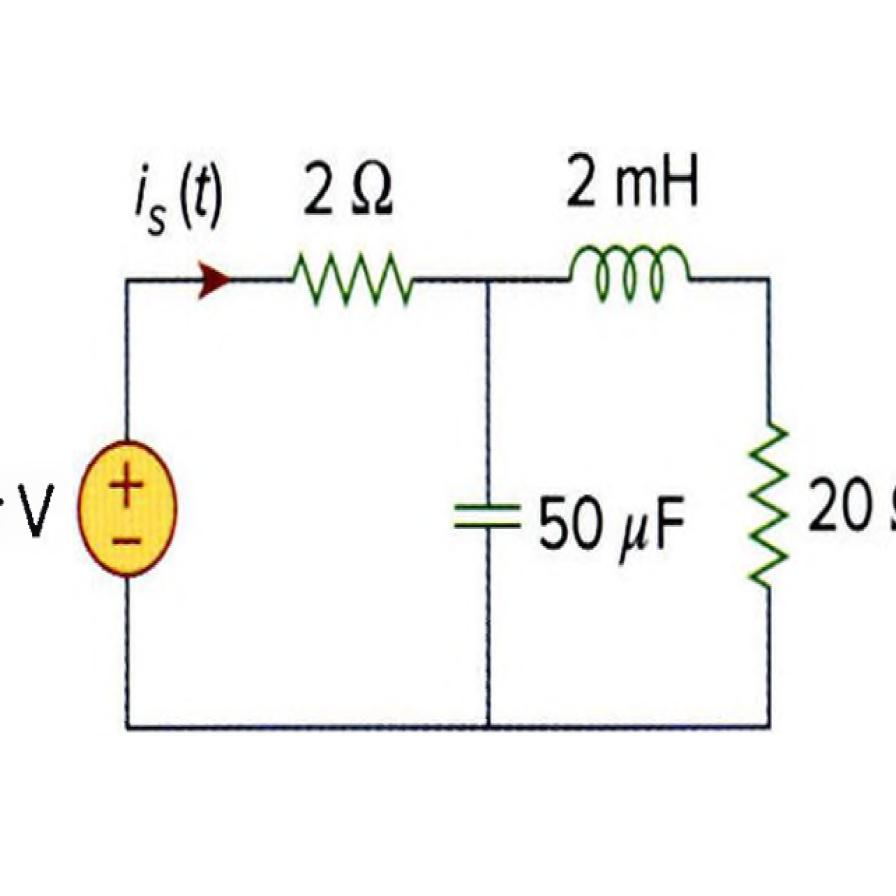C2: (433, 475, 527, 556)
L1: (543, 225, 709, 320)
